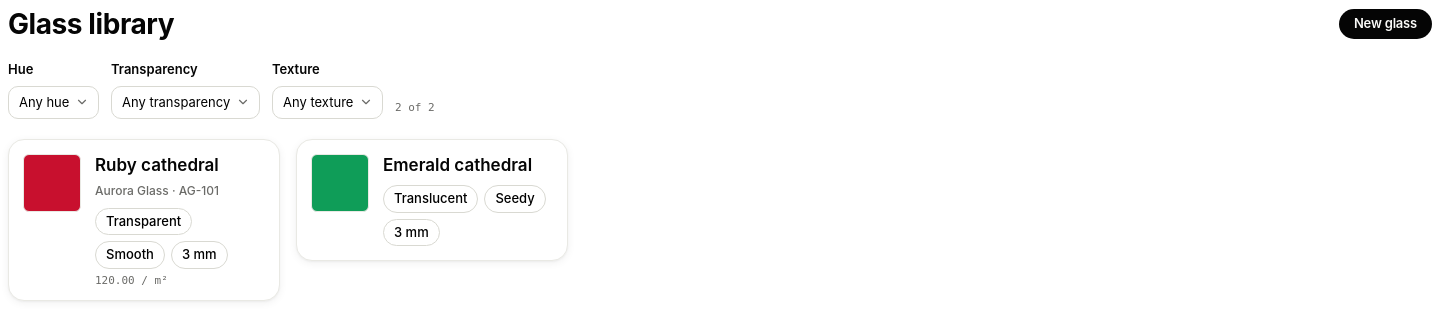
Scenario: GlassLibraryView — search and facets (FR-3) › filters by a facet (transparency)
Select "Translucent" in the dropdown labelled "Transparency" at (186, 102), box [111, 86, 260, 119]
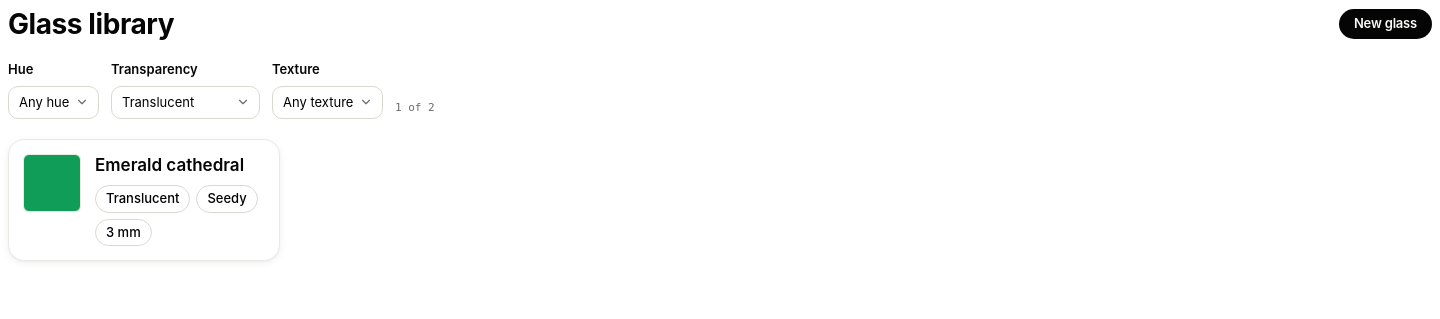
Expected: the text "Emerald cathedral" is shown, [95, 154, 265, 177]
Now the button "Ruby cathedral" is gone
